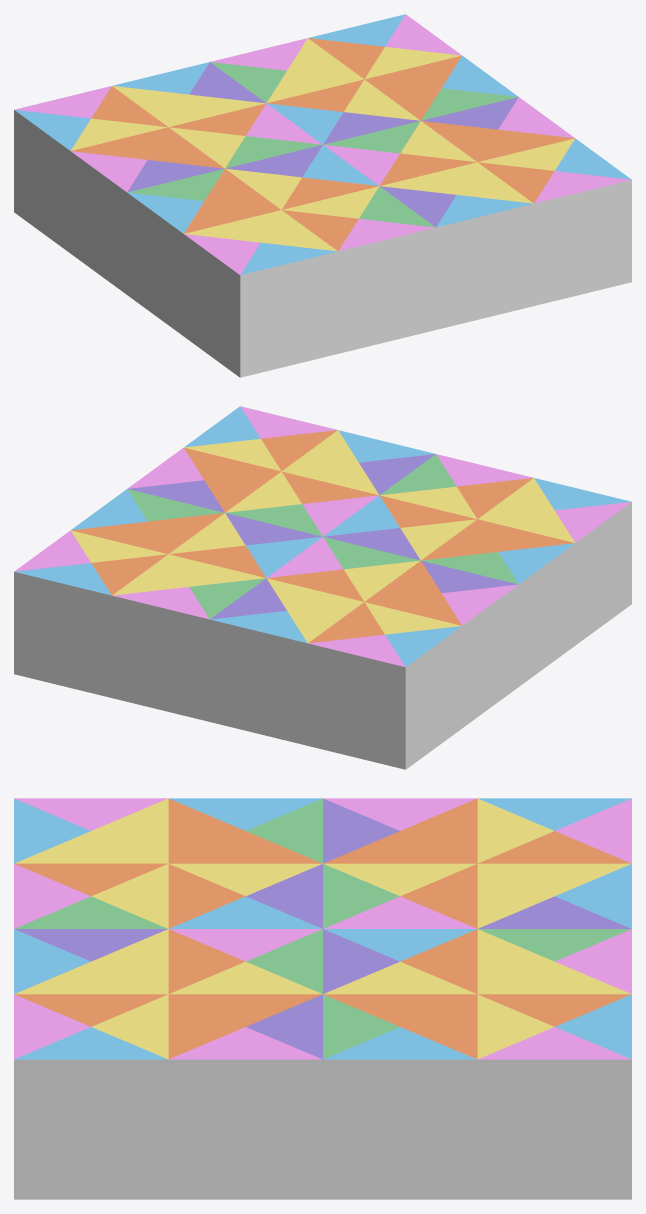
The model's file is Prop_GroundBase_05.fbx.
3 renders of one model, top to bottom at view 1: azimuth 30°, elevation 25°; view 2: azimuth 150°, elevation 25°; view 3: azimuth 270°, elevation 25°, orthographic. The views are drawn at different scales.
Parts seen in each view (by area): view 1: Prop_GroundBase_05; view 2: Prop_GroundBase_05; view 3: Prop_GroundBase_05.
Boxes of the visible parts, x1=… form: Prop_GroundBase_05: x1=14, y1=14, x2=631, y2=377; Prop_GroundBase_05: x1=14, y1=406, x2=631, y2=769; Prop_GroundBase_05: x1=14, y1=798, x2=631, y2=1199.
Size of the model in its own units: 200 by 50 by 200.
